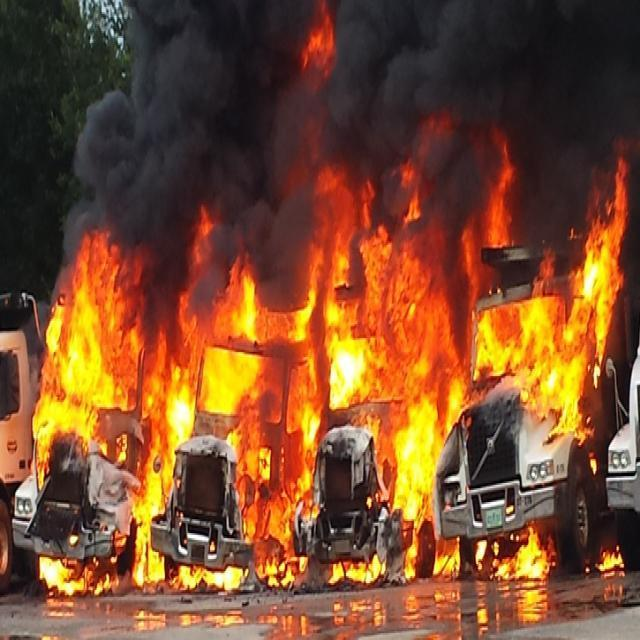Fire: (24, 130, 640, 587)
Smoke: (42, 0, 639, 280)
